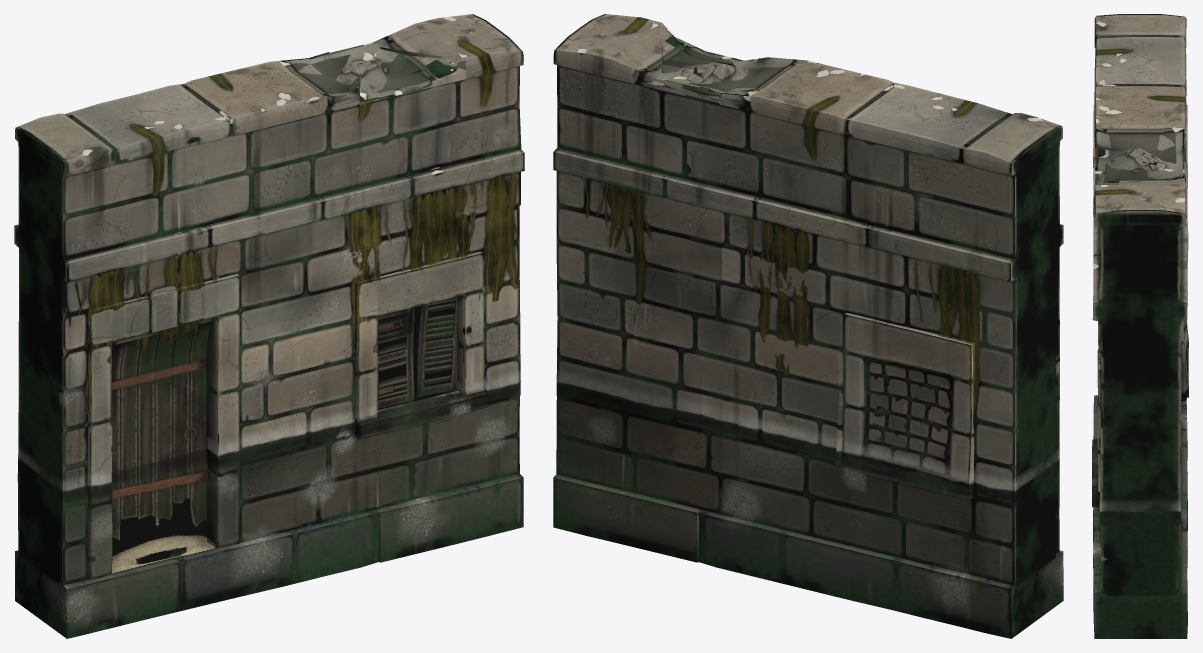
File: drowned_wall.glb
The picture shows the model from 3 angles, left to right: view 1: azimuth 30°, elevation 25°; view 2: azimuth 150°, elevation 25°; view 3: azimuth 270°, elevation 25°; orthographic projection. The views are drawn at different scales.
Parts seen in each view (by area): view 1: drowned_wall; view 2: drowned_wall; view 3: drowned_wall.
Boxes of the visible parts, bbox=[...] form: drowned_wall: bbox=[14, 14, 524, 638]; drowned_wall: bbox=[553, 14, 1063, 638]; drowned_wall: bbox=[1092, 14, 1188, 638].
Bounding box in the file's own units: 4 × 4.02 × 0.8227.
1 material, 1 textured.
